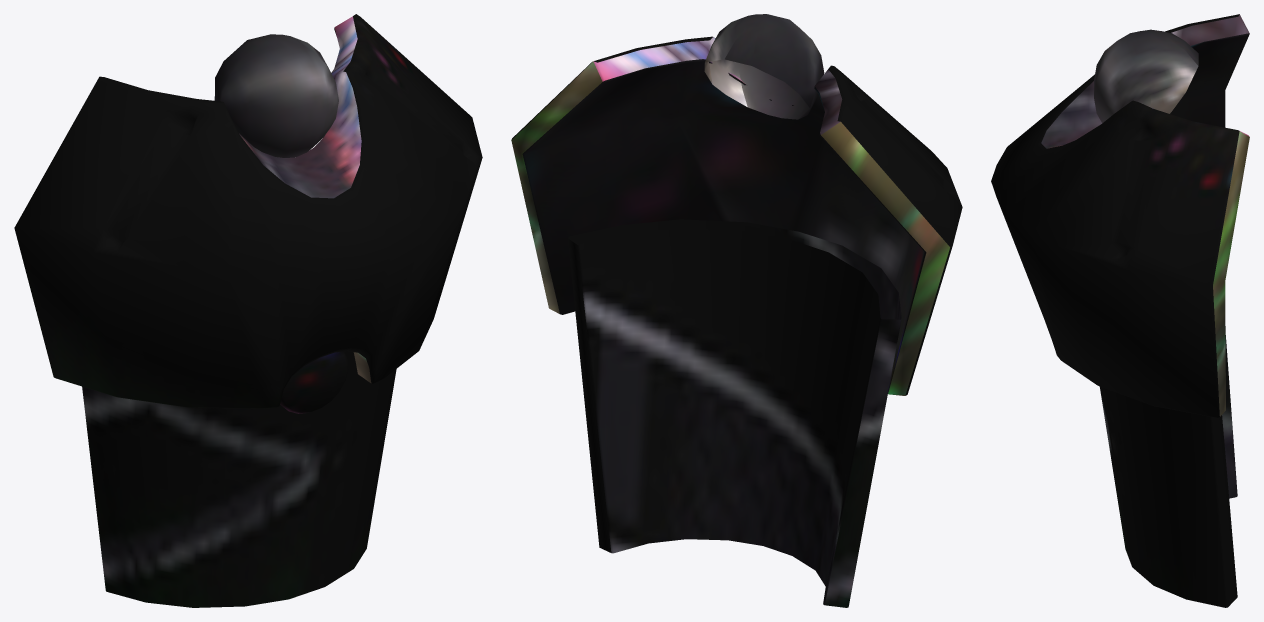
The model's file is chestPlate.fbx.
3 renders of one model, left to right at view 1: azimuth 30°, elevation 25°; view 2: azimuth 150°, elevation 25°; view 3: azimuth 270°, elevation 25°, orthographic. The views are drawn at different scales.
Visible parts, largest first — view 1: Body; view 2: Body; view 3: Body.
Part boxes in pixels (x1=…): Body: x1=14, y1=14, x2=482, y2=607; Body: x1=511, y1=14, x2=962, y2=607; Body: x1=991, y1=14, x2=1249, y2=607.
Bounding box in the file's own units: 111 × 128 × 58.36.
